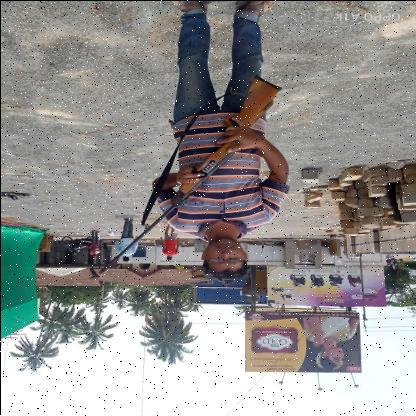rifle: (96, 72, 283, 275)
